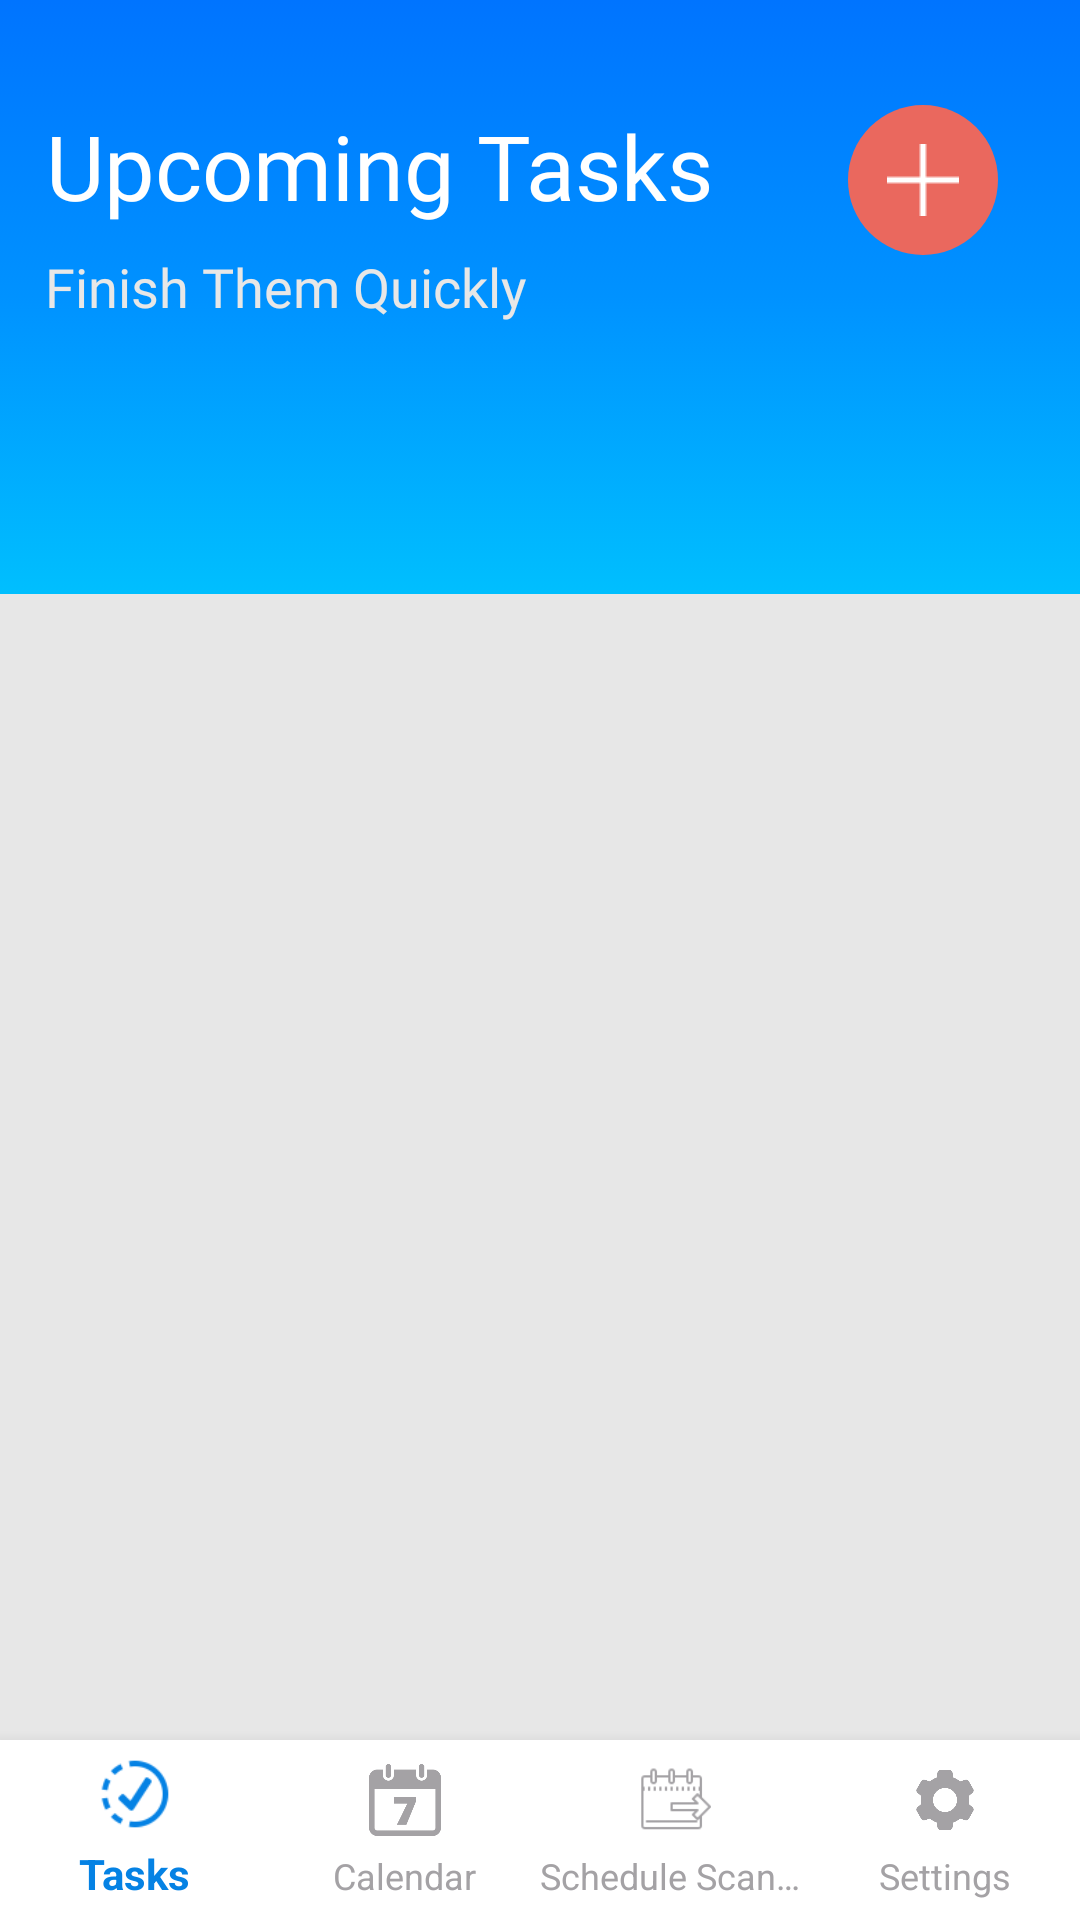

Icons on this 1080 x 1920 Android screen, each with the point to tap as [x,y]:
plus: [923,180]
